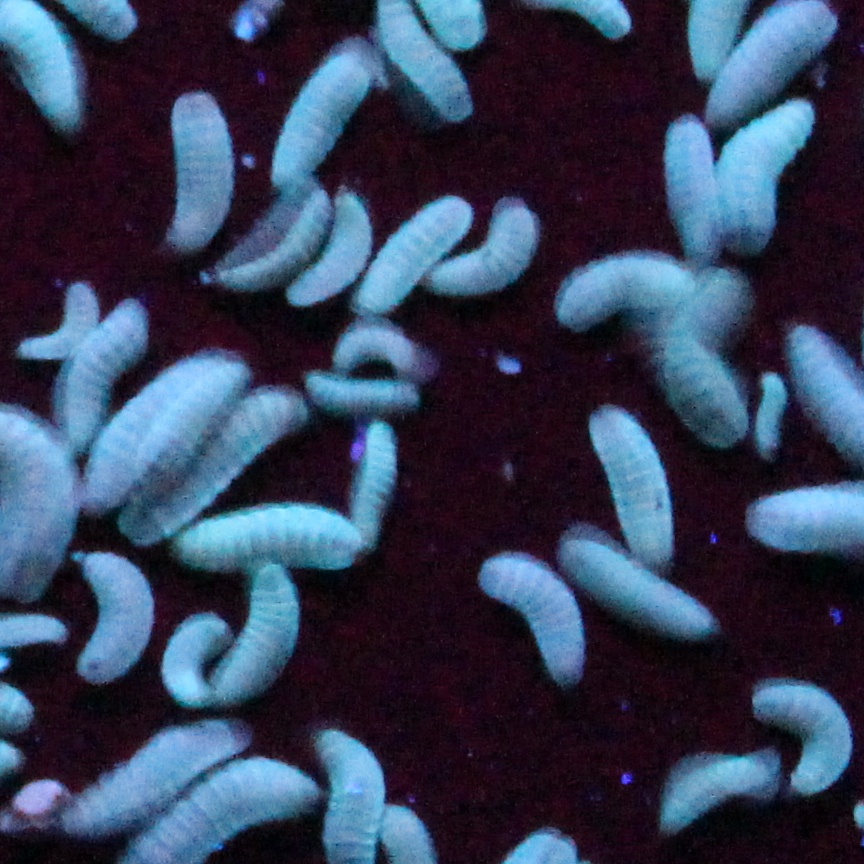larve: (73, 349, 253, 503), (55, 720, 235, 840), (553, 534, 721, 643), (473, 557, 601, 683), (695, 0, 830, 114), (584, 414, 681, 563), (350, 197, 464, 312), (270, 52, 375, 174), (753, 677, 861, 794), (213, 183, 321, 297), (161, 92, 235, 240), (70, 306, 150, 437), (730, 106, 804, 240), (287, 192, 373, 306), (655, 117, 727, 252), (658, 329, 750, 434), (650, 760, 778, 832), (221, 563, 281, 714), (441, 197, 533, 294), (567, 260, 690, 323), (78, 552, 130, 680), (350, 429, 401, 543), (13, 286, 95, 354)
